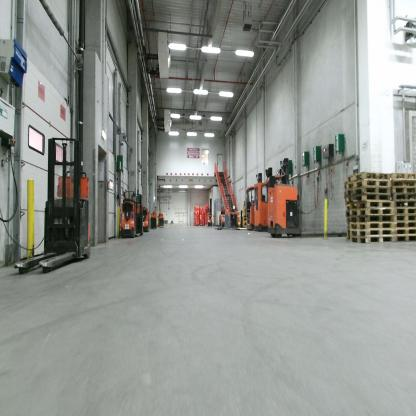forklift: (265, 164, 303, 237), (253, 165, 276, 235), (245, 166, 259, 237)
pallet: (345, 170, 391, 183), (350, 199, 395, 210), (349, 235, 395, 245), (346, 185, 390, 195), (348, 229, 396, 238), (349, 215, 395, 224), (349, 222, 394, 231), (346, 193, 390, 202), (346, 178, 389, 187), (349, 207, 392, 216), (390, 172, 416, 180), (391, 186, 415, 194), (392, 214, 416, 222), (391, 179, 415, 186), (391, 193, 415, 200), (393, 207, 416, 214), (392, 222, 415, 229), (393, 200, 415, 207), (394, 235, 416, 242), (394, 229, 415, 235), (344, 204, 350, 211), (346, 215, 350, 223), (346, 211, 351, 217), (347, 230, 351, 236), (347, 223, 350, 230), (200, 224, 205, 228), (195, 224, 200, 228), (347, 236, 350, 240)
pallet_truck: (10, 123, 103, 297), (116, 188, 146, 242), (224, 200, 240, 230), (139, 206, 151, 236), (157, 210, 167, 235), (150, 206, 158, 232), (219, 211, 228, 230), (205, 208, 214, 224)
